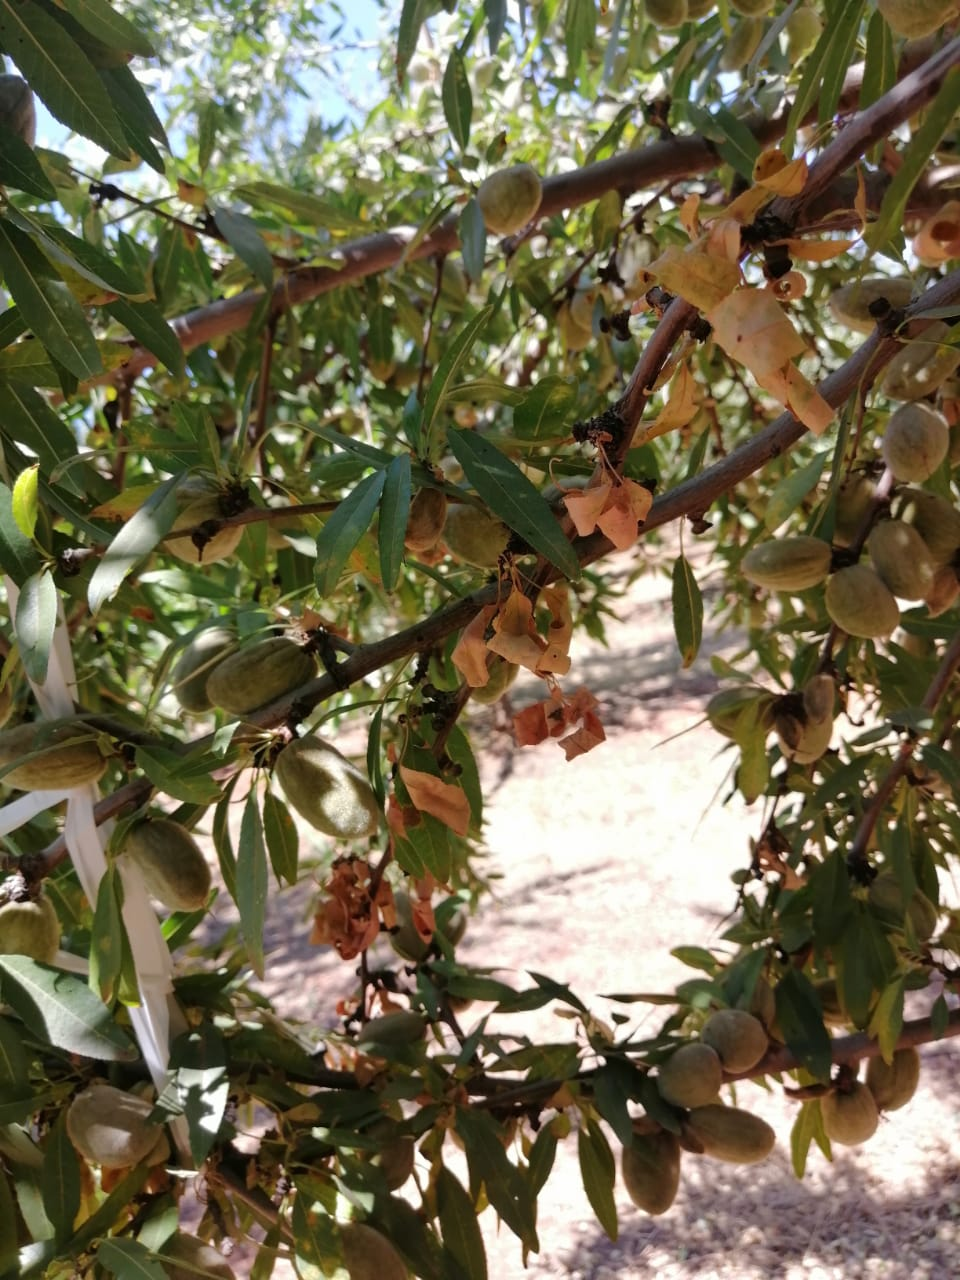chancre fusicocum: (441, 153, 836, 764), (315, 853, 396, 1050)
